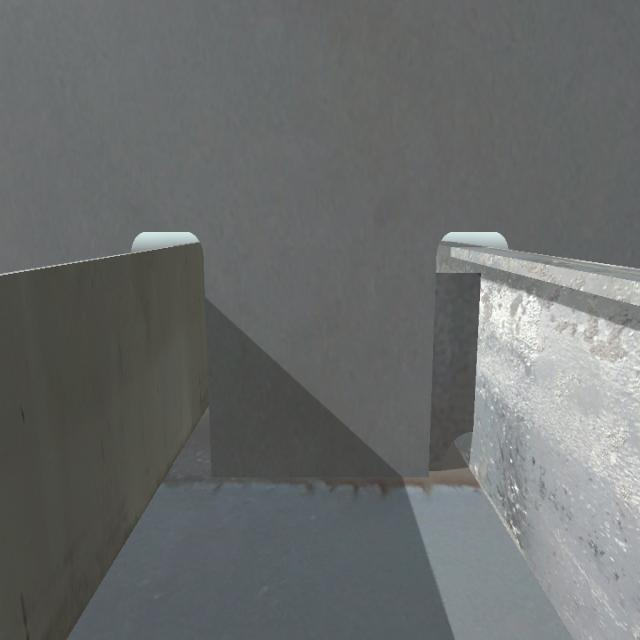fillet_hole: (440, 431, 472, 471)
fillet_yong_jeop_jang: (208, 469, 452, 481)
longi_yong_jeop_jang: (470, 268, 485, 430)
plate_behind: (437, 272, 477, 472)
